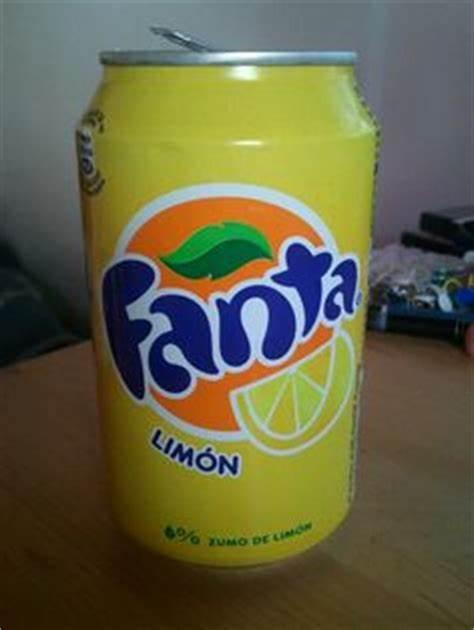metal: (75, 51, 378, 568)
